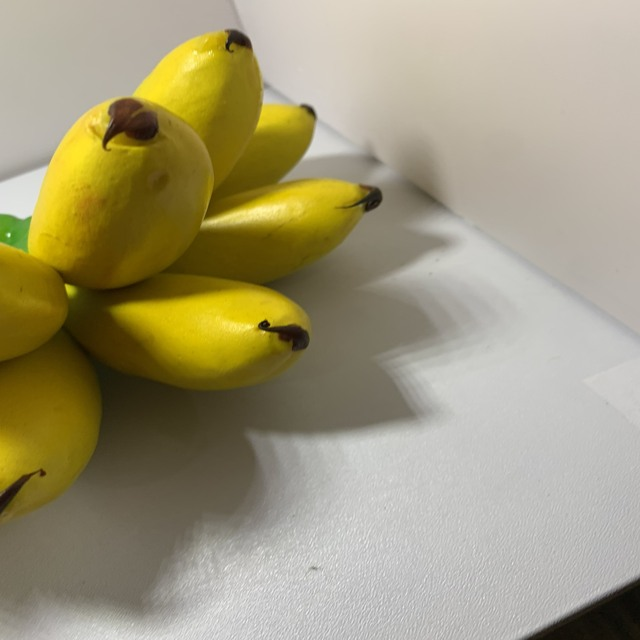Chuoi: (0, 24, 388, 525)
